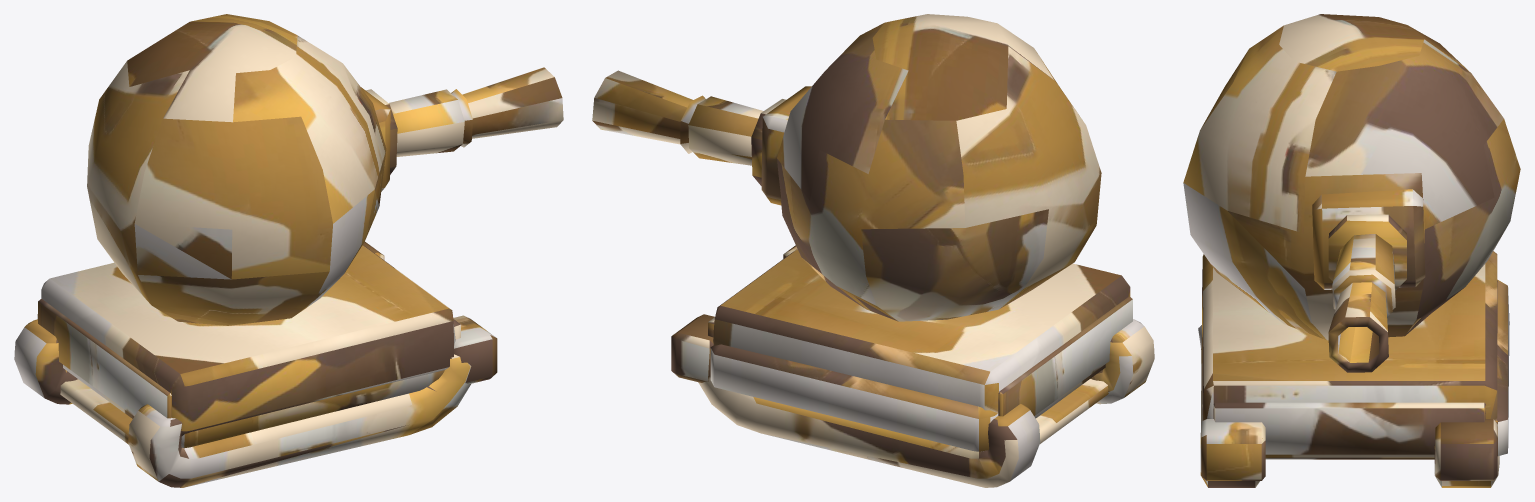
Rendered from Tank2.fbx.
The picture shows the model from 3 angles, left to right: view 1: azimuth 30°, elevation 25°; view 2: azimuth 150°, elevation 25°; view 3: azimuth 270°, elevation 25°; orthographic projection. The views are drawn at different scales.
Parts seen in each view (by area): view 1: tripo_node_af54257b; view 2: tripo_node_af54257b; view 3: tripo_node_af54257b.
Part boxes in pixels (x1,y1,x2,y2): tripo_node_af54257b: (14, 14, 563, 487); tripo_node_af54257b: (592, 14, 1154, 487); tripo_node_af54257b: (1183, 14, 1520, 487).
Bounding box in the file's own units: 557 × 430 × 329.
Materials: 1 (1 with a texture image).
